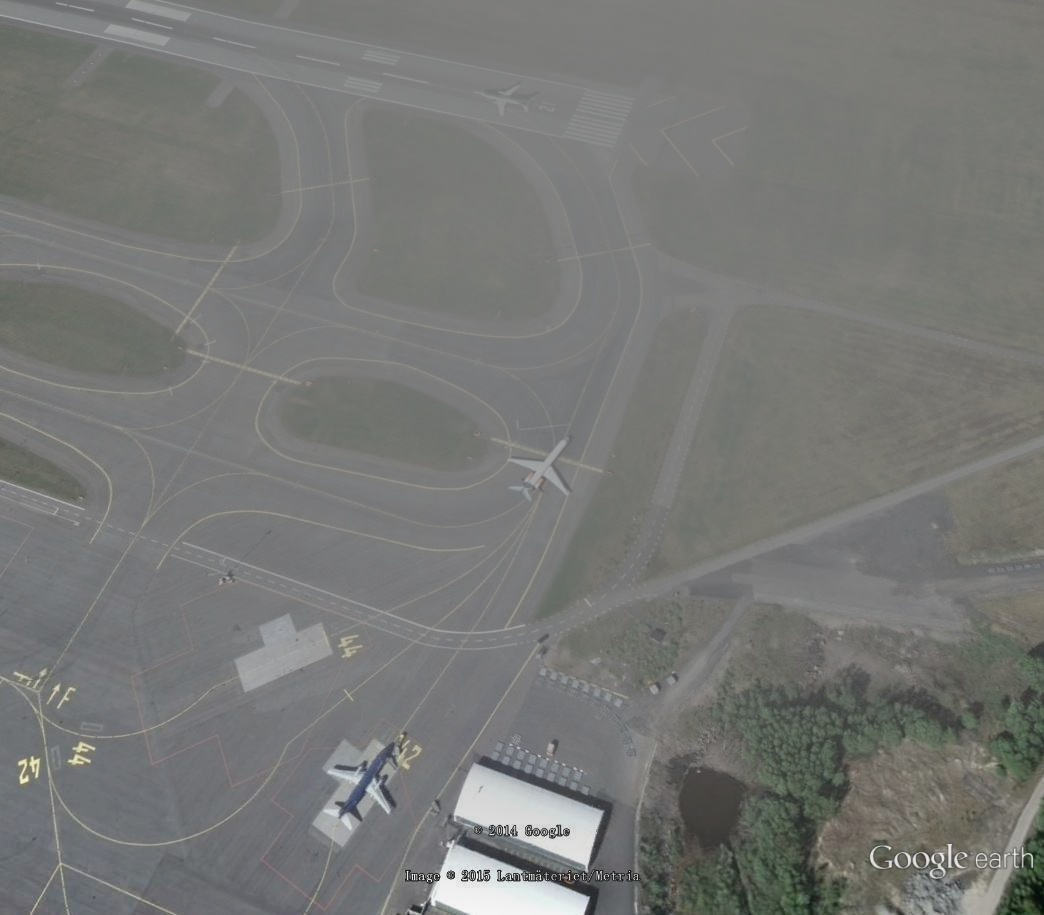aircraft: (324, 738, 409, 837), (504, 432, 580, 505), (472, 79, 543, 127)
